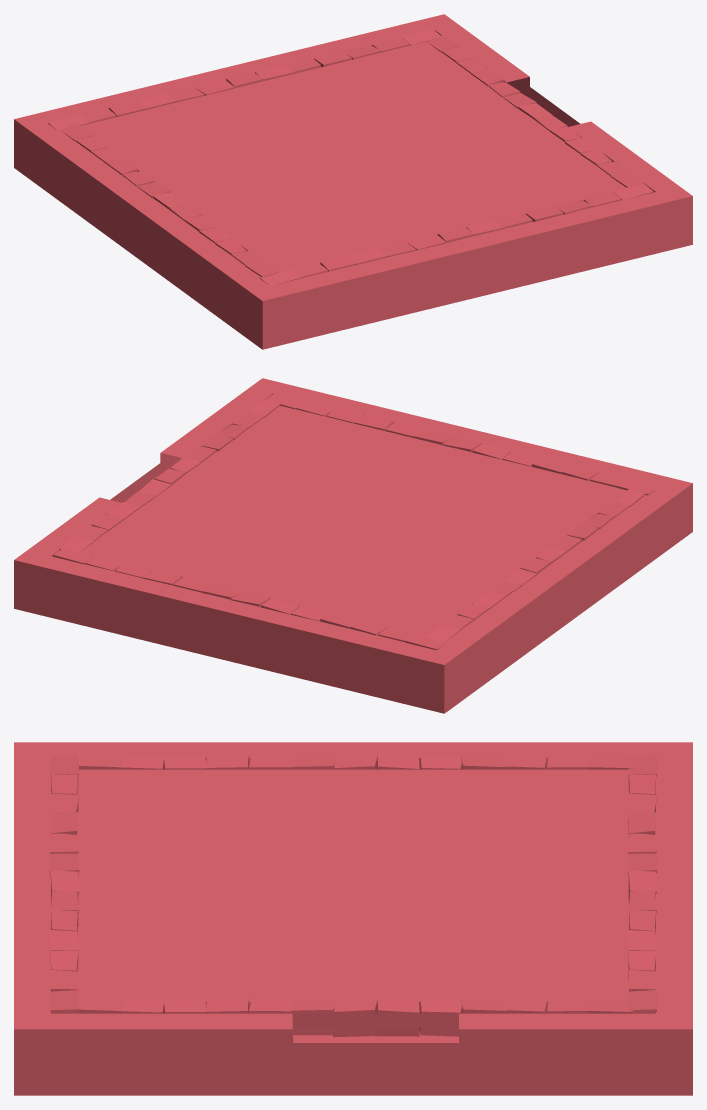
File: WolfdenUpperFloor.fbx
The picture shows the model from 3 angles, top to bottom: view 1: azimuth 30°, elevation 25°; view 2: azimuth 150°, elevation 25°; view 3: azimuth 270°, elevation 25°; orthographic projection. The views are drawn at different scales.
Parts seen in each view (by area): view 1: Plane, Cube.053, Cube.007; view 2: Plane, Cube.053, Cube.007; view 3: Plane, Cube.007, Cube.053.
Part boxes in pixels (x1,y1,x2,y2): Plane: (14,14,692,349); Cube.053: (48,28,653,285); Cube.007: (61,35,644,277); Plane: (14,378,692,713); Cube.053: (53,393,657,650); Cube.007: (59,399,646,642); Plane: (14,742,692,1095); Cube.007: (76,754,632,1037); Cube.053: (49,754,657,1013).
Size of the model in its own units: 5517 by 626 by 5517.
